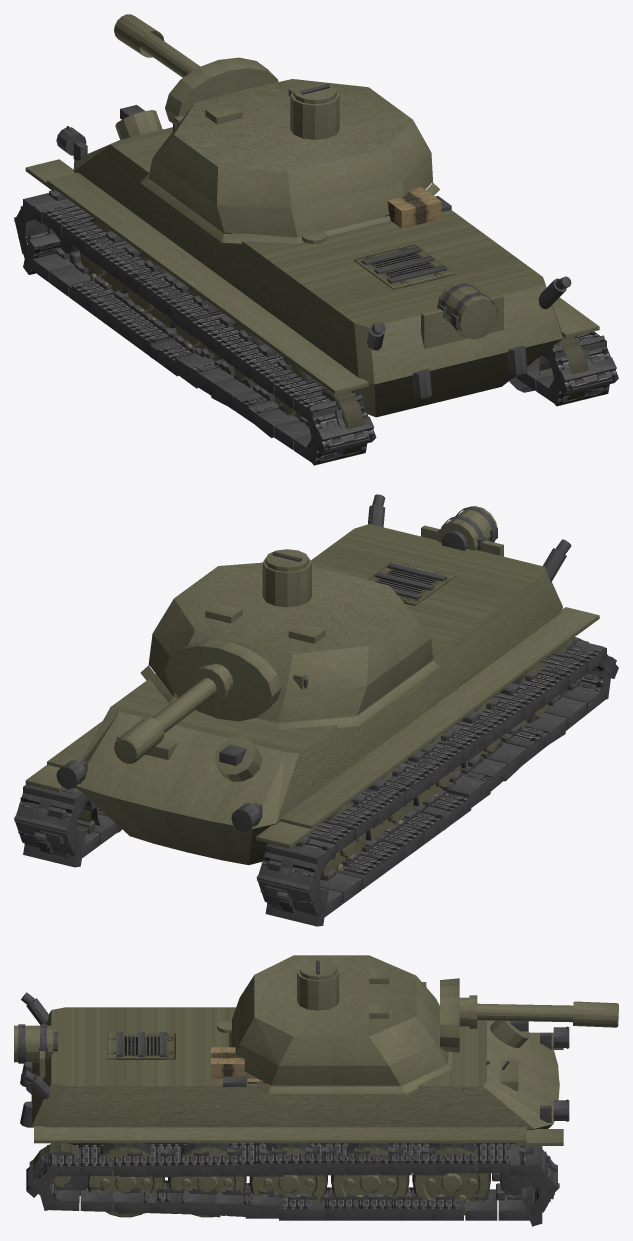
The model's file is t34_replica.glb.
The picture shows the model from 3 angles, top to bottom: view 1: azimuth 30°, elevation 25°; view 2: azimuth 150°, elevation 25°; view 3: azimuth 270°, elevation 25°; orthographic projection. The views are drawn at different scales.
Parts seen in each view (by area): view 1: Cosmetic_hull, Cosmetic_turret, Cosmetic_track_left, Cosmetic_wheels, Cosmetic_track_right, Cosmetic_gun_recoil; view 2: Cosmetic_hull, Cosmetic_turret, Cosmetic_track_left, Cosmetic_track_right, Cosmetic_wheels, Cosmetic_gun_recoil; view 3: Cosmetic_hull, Cosmetic_track_right, Cosmetic_turret, Cosmetic_wheels, Cosmetic_gun_recoil.
Boxes of the visible parts, x1,y1,x2,y2 form: Cosmetic_hull: (25,105,599,417); Cosmetic_turret: (140,57,439,243); Cosmetic_track_left: (14,190,376,465); Cosmetic_wheels: (54,218,588,455); Cosmetic_track_right: (513,331,618,406); Cosmetic_gun_recoil: (114,14,200,77); Cosmetic_hull: (25,494,599,865); Cosmetic_turret: (140,549,439,729); Cosmetic_track_left: (256,640,618,926); Cosmetic_track_right: (14,784,121,867); Cosmetic_wheels: (40,637,582,912); Cosmetic_gun_recoil: (114,678,216,763); Cosmetic_hull: (14,992,569,1148); Cosmetic_track_right: (26,1143,559,1226); Cosmetic_turret: (229,955,477,1093); Cosmetic_wheels: (33,1143,550,1217); Cosmetic_gun_recoil: (477,1001,618,1027).
Size of the model in its own units: 2.96 by 2.32 by 6.16.
1 material, 1 textured.
